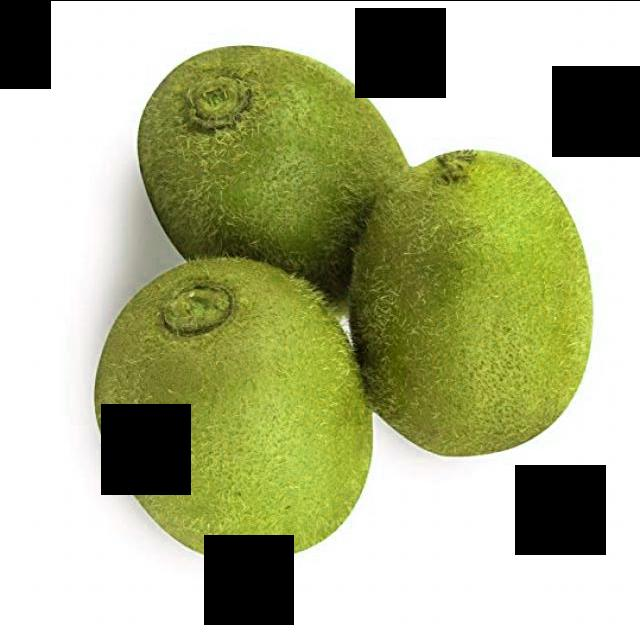kiwi: (94, 260, 376, 564), (138, 45, 417, 326), (355, 151, 597, 459)
